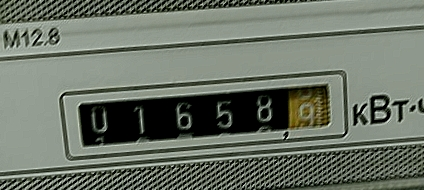0: (86, 102, 109, 133)
1: (129, 101, 149, 134)
5: (211, 96, 235, 128)
6: (171, 96, 194, 131)
8: (252, 89, 274, 123)
9: (293, 99, 316, 129)
screen: (48, 58, 354, 167)
